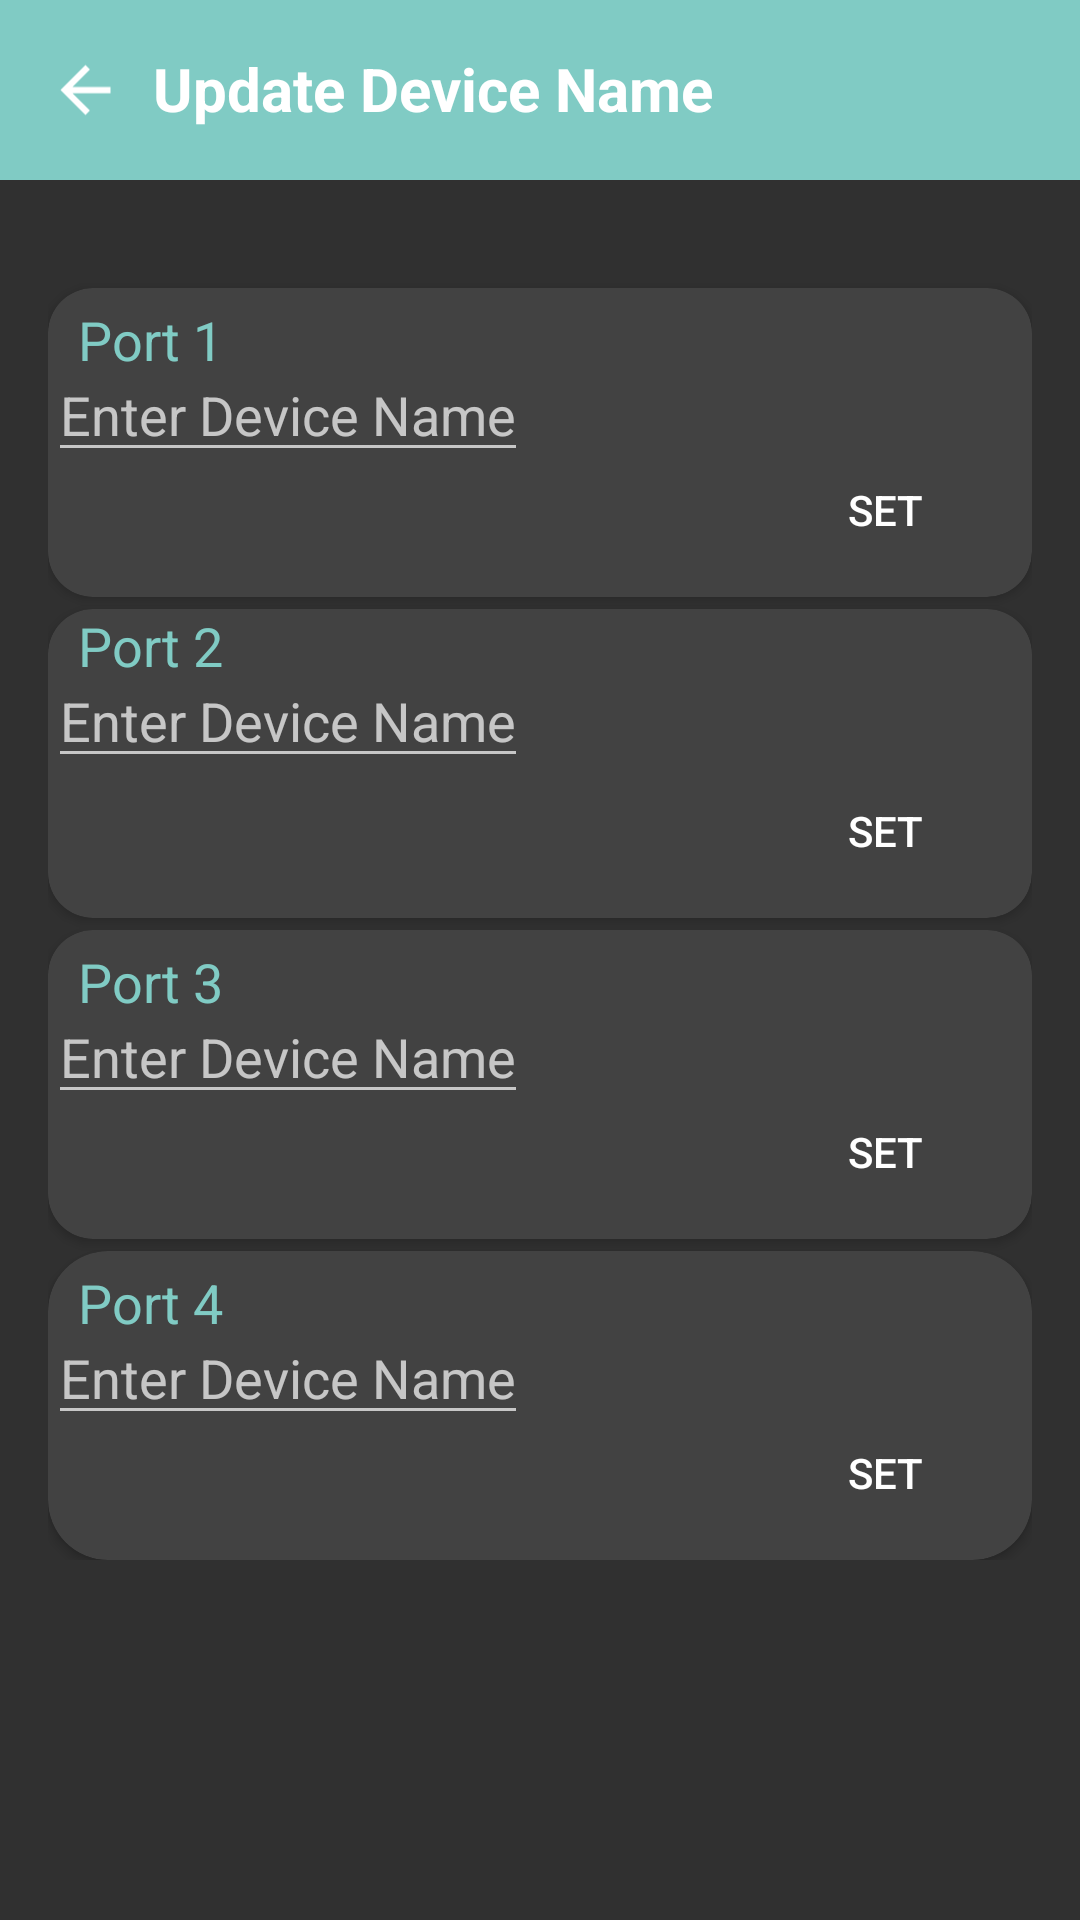

Icons on this 1080 × 1920 Android screen, each with the point to tap as [x,y]:
arrow back: [86,90]
